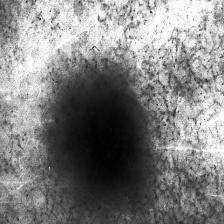Benign Marking or Mole: (70, 96, 140, 185)
